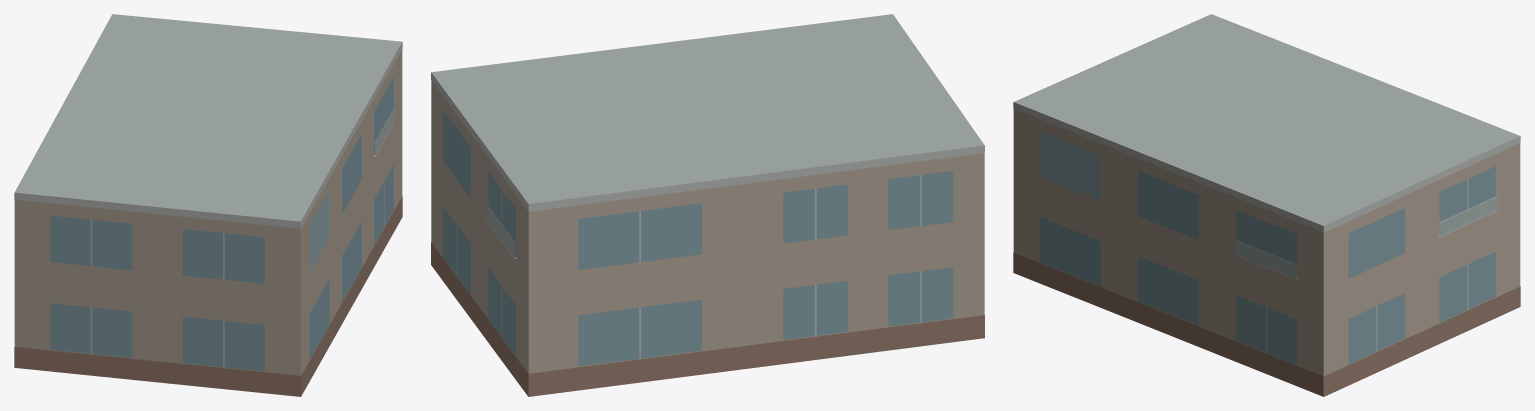
Rendered from survey-upis-32662501.glb.
The picture shows the model from 3 angles, left to right: view 1: azimuth 30°, elevation 25°; view 2: azimuth 150°, elevation 25°; view 3: azimuth 270°, elevation 25°; orthographic projection. The views are drawn at different scales.
Visible parts, largest first — view 1: survey-upis-32662501.tmp; view 2: survey-upis-32662501.tmp; view 3: survey-upis-32662501.tmp.
Part boxes in pixels (x1,y1,x2,y2): survey-upis-32662501.tmp: (14,14,402,396); survey-upis-32662501.tmp: (431,14,984,396); survey-upis-32662501.tmp: (1013,14,1520,396).
Bounding box in the file's own units: 16.24 × 6.1 × 16.41.
